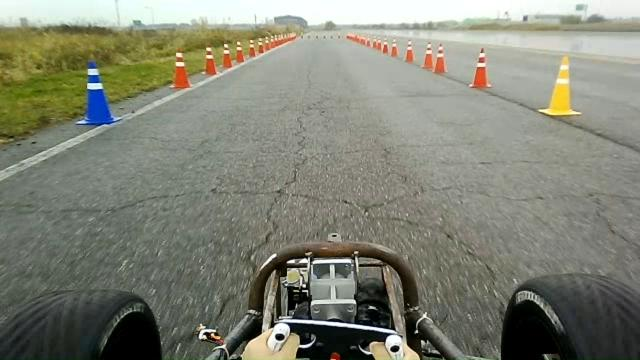blue cone: (76, 59, 122, 126)
red cone: (173, 48, 197, 88), (469, 48, 491, 88), (433, 40, 449, 72), (202, 45, 218, 75), (421, 41, 434, 69), (221, 43, 233, 68), (404, 38, 414, 62), (235, 40, 245, 63), (387, 38, 396, 57), (248, 38, 256, 58), (382, 36, 389, 54), (257, 37, 264, 54)
yellow cone: (538, 55, 582, 116)
